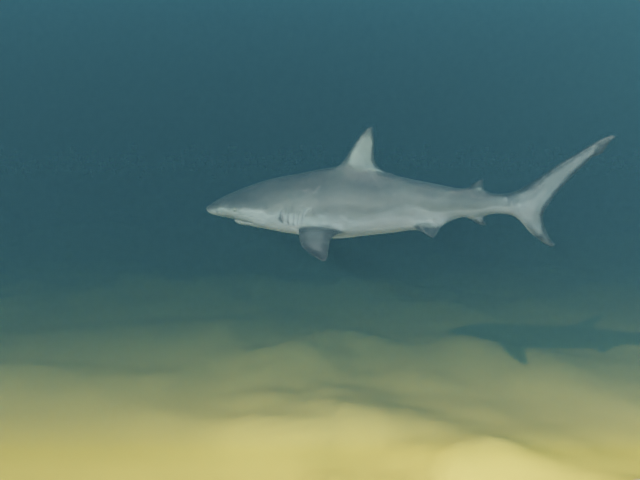Carribean Shark.001: (206, 126, 615, 261)
